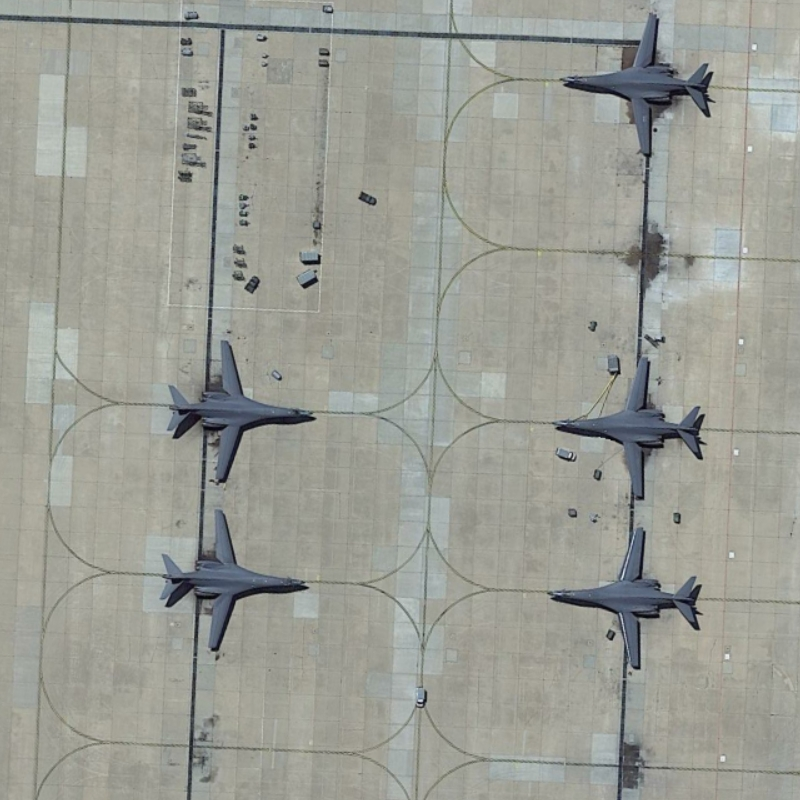A10: (555, 9, 748, 162), (547, 523, 735, 675), (546, 345, 722, 507), (156, 331, 338, 485), (155, 506, 319, 653)
